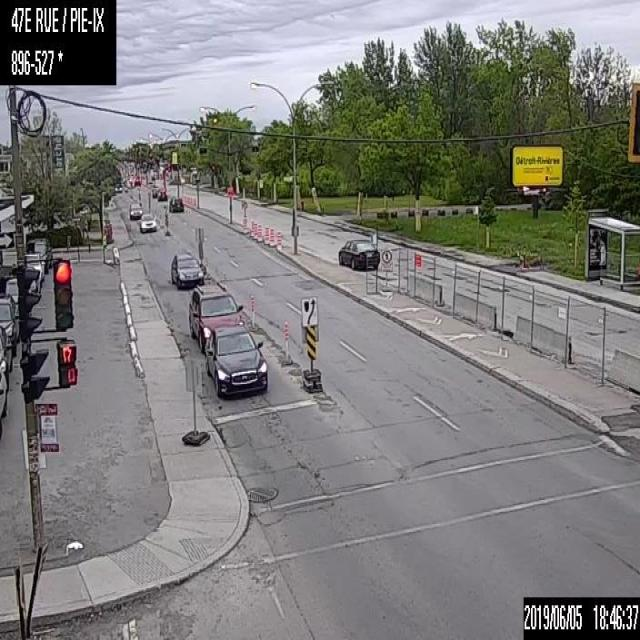construction: (284, 319, 289, 361), (249, 295, 255, 328), (263, 226, 269, 244), (257, 223, 263, 240), (250, 220, 256, 237), (269, 228, 274, 245), (276, 231, 281, 246), (222, 272, 225, 288)
vehicle: (206, 322, 267, 398), (187, 284, 245, 350), (336, 236, 381, 268), (170, 251, 204, 289), (0, 292, 19, 355), (8, 264, 36, 297), (26, 236, 51, 272), (22, 251, 44, 289), (1, 276, 20, 313), (0, 325, 12, 383), (0, 369, 8, 436), (140, 212, 158, 232), (169, 194, 183, 212), (128, 201, 142, 218), (156, 188, 167, 200), (151, 186, 157, 197)
